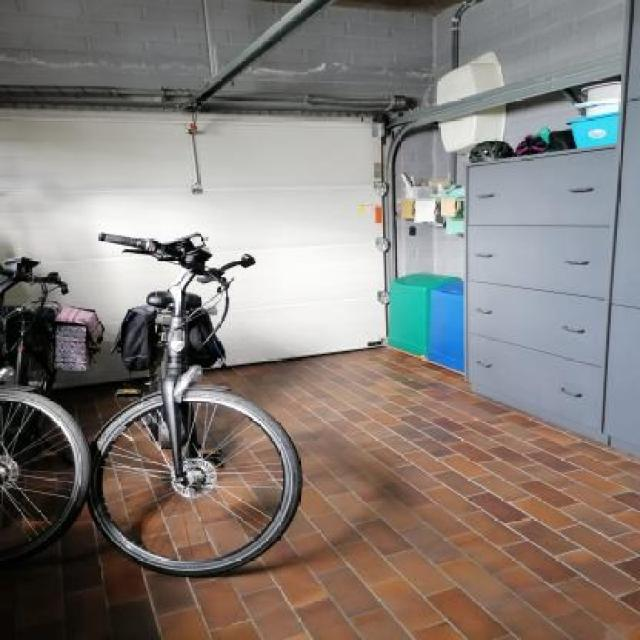floor: (3, 342, 640, 640), (58, 382, 149, 445)
